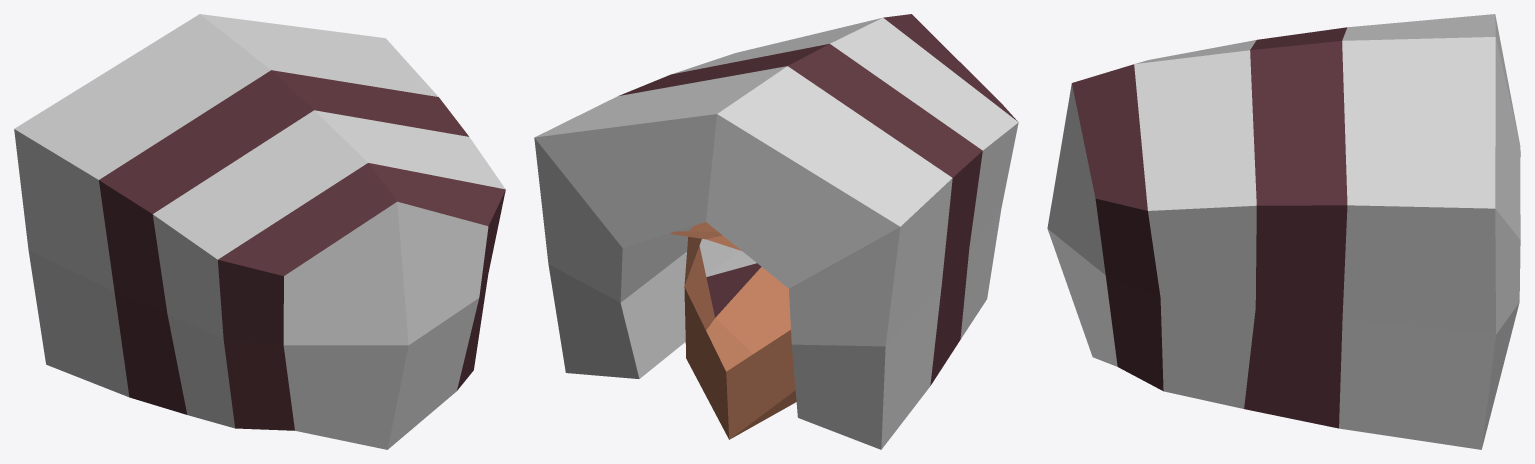
Rendered from head_egytp1.fbx.
3 views of the same model, side by side, from view 1: azimuth 30°, elevation 25°; view 2: azimuth 150°, elevation 25°; view 3: azimuth 270°, elevation 25° (orthographic). The views are drawn at different scales.
Parts seen in each view (by area): view 1: man-egypt-soldier; view 2: man-egypt-soldier; view 3: man-egypt-soldier.
Part boxes in pixels (x1,y1,x2,y2): man-egypt-soldier: (14, 14, 505, 449); man-egypt-soldier: (534, 14, 1018, 449); man-egypt-soldier: (1047, 14, 1520, 449).
Size of the model in its own units: 329 by 298 by 338.
